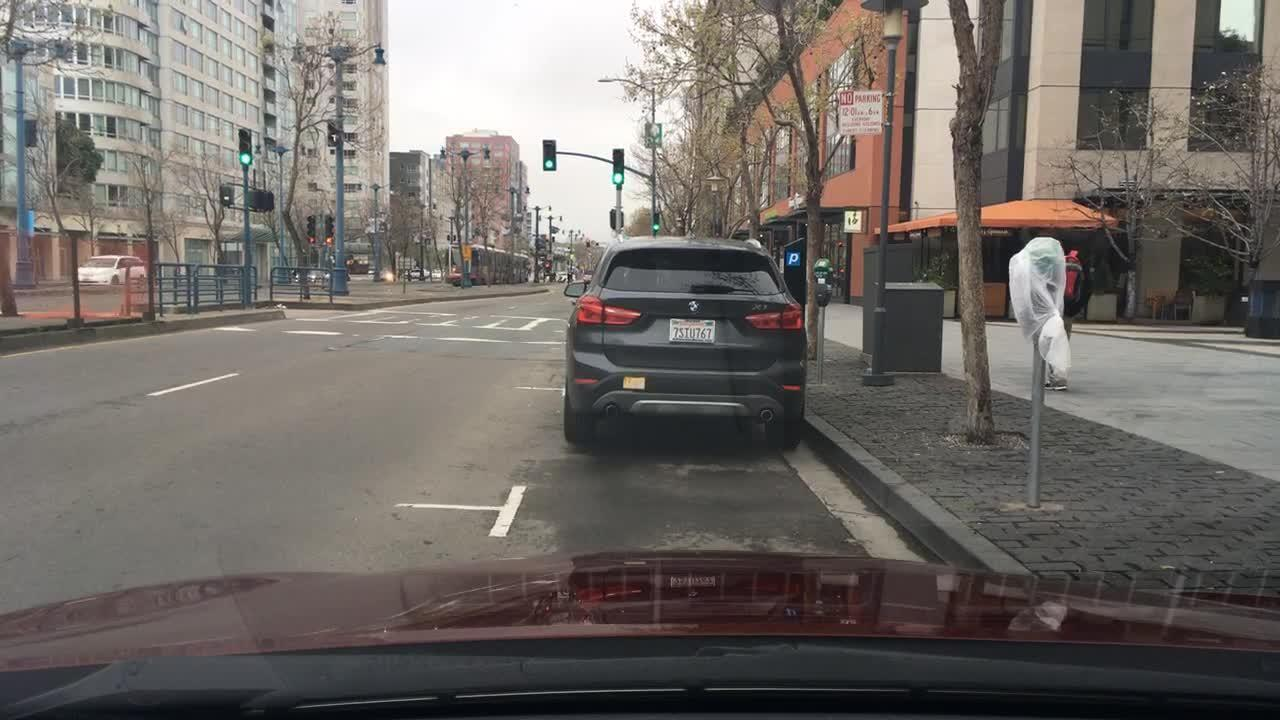bmw: (682, 298, 707, 316)
